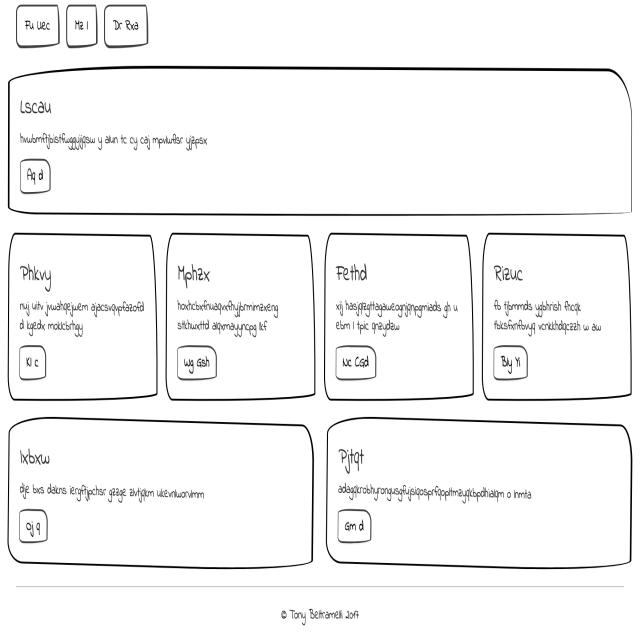Button: (335, 478, 530, 507), (174, 339, 227, 384), (488, 336, 535, 384), (332, 343, 383, 383), (17, 156, 58, 200), (17, 339, 54, 384), (335, 504, 377, 543), (19, 508, 53, 546)
Card: (5, 66, 640, 215), (325, 418, 634, 574), (9, 421, 317, 574), (165, 227, 318, 414), (5, 224, 159, 403), (480, 232, 634, 406), (326, 231, 475, 406)
Footer: (0, 582, 640, 640)
Heading 6: (17, 255, 74, 292), (333, 252, 377, 296), (172, 256, 221, 294), (491, 257, 533, 296), (17, 90, 71, 120), (15, 441, 58, 476), (332, 443, 366, 475)
Navigation Bar: (12, 0, 155, 56)
Paragraph: (16, 473, 206, 517), (15, 119, 208, 158), (17, 291, 146, 339), (332, 297, 463, 338), (492, 295, 610, 336), (173, 297, 280, 341)
